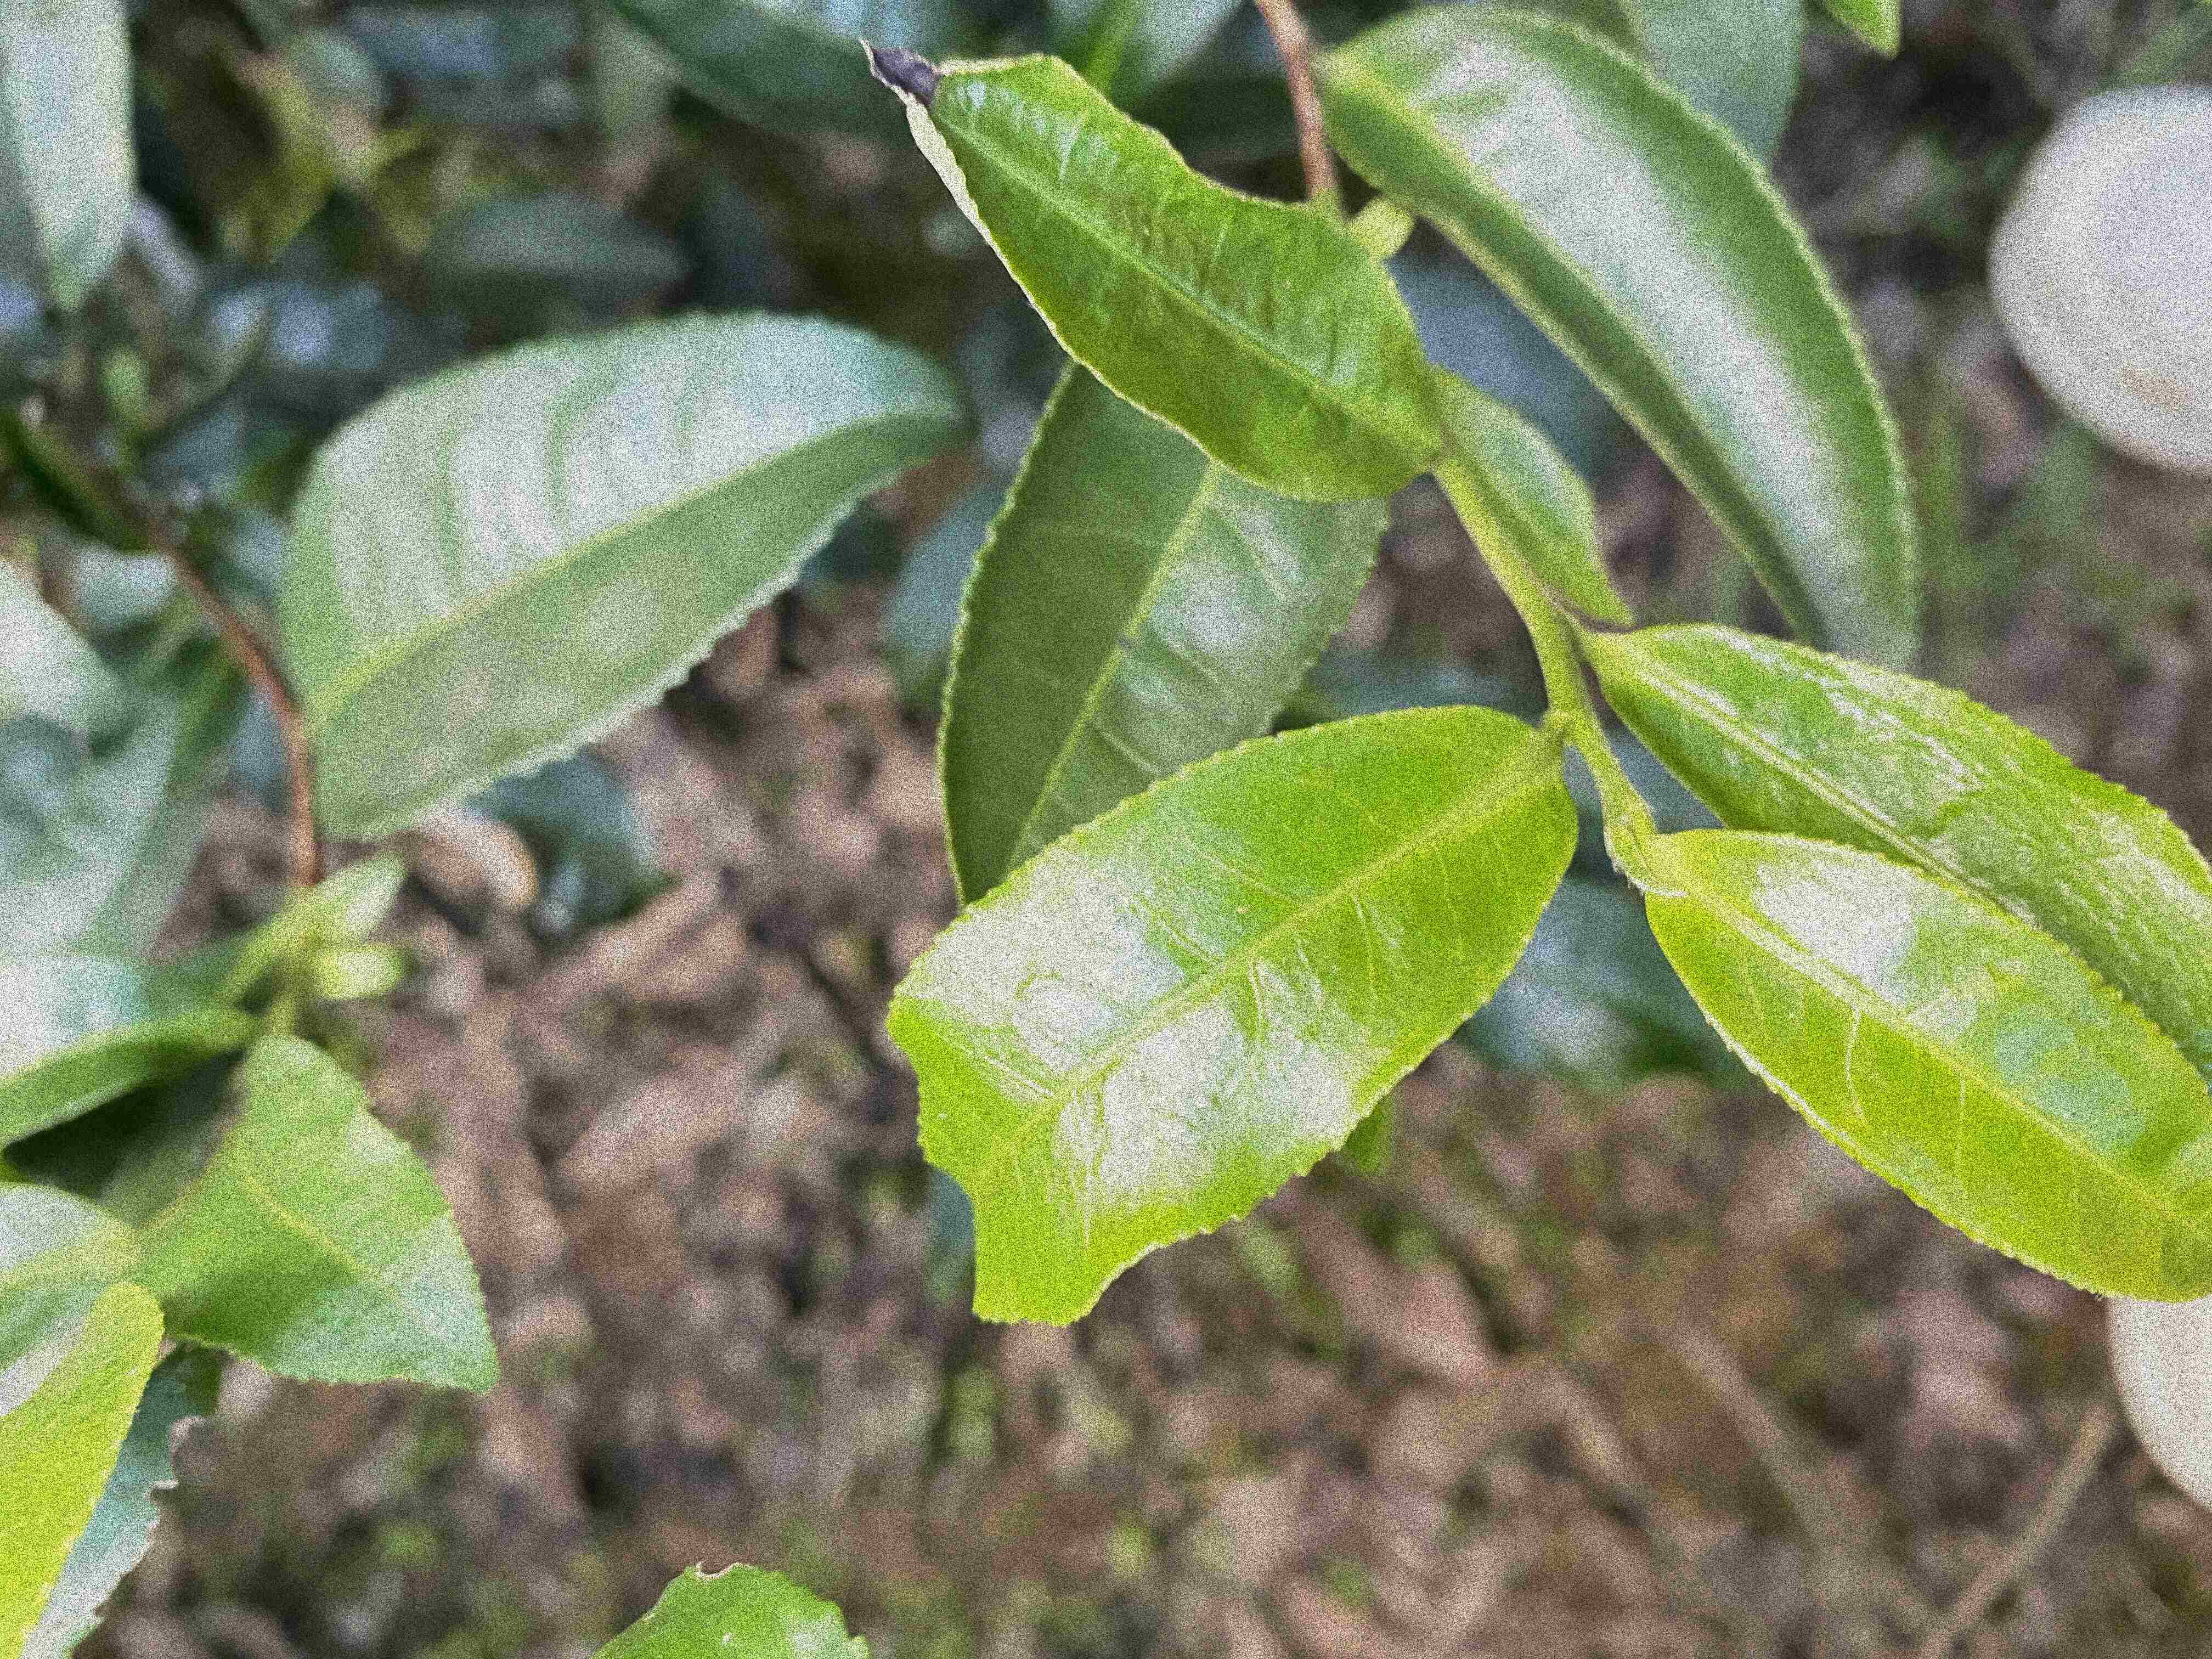healthy: (876, 699, 1581, 1328), (1644, 824, 2210, 1304)
tanju_high: (855, 28, 1442, 502)
